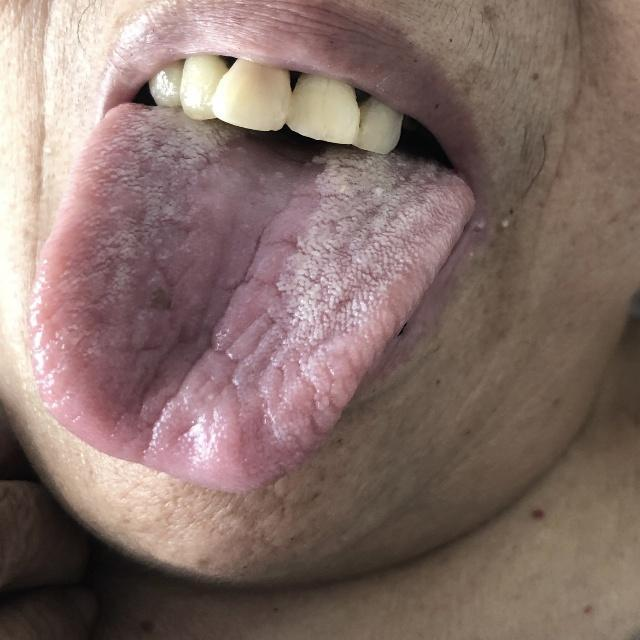baitaishe: (26, 107, 476, 493)
liewenshe: (133, 315, 242, 450)
